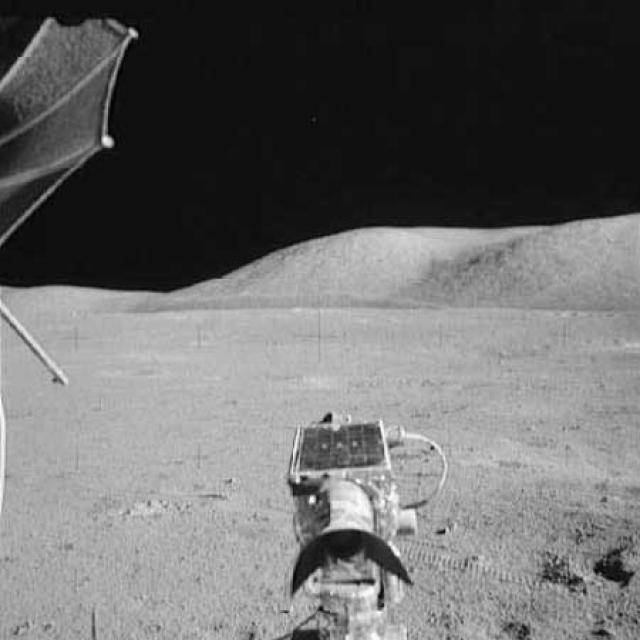artifact: (0, 14, 145, 392), (270, 402, 450, 638)
crater: (282, 372, 433, 399)
